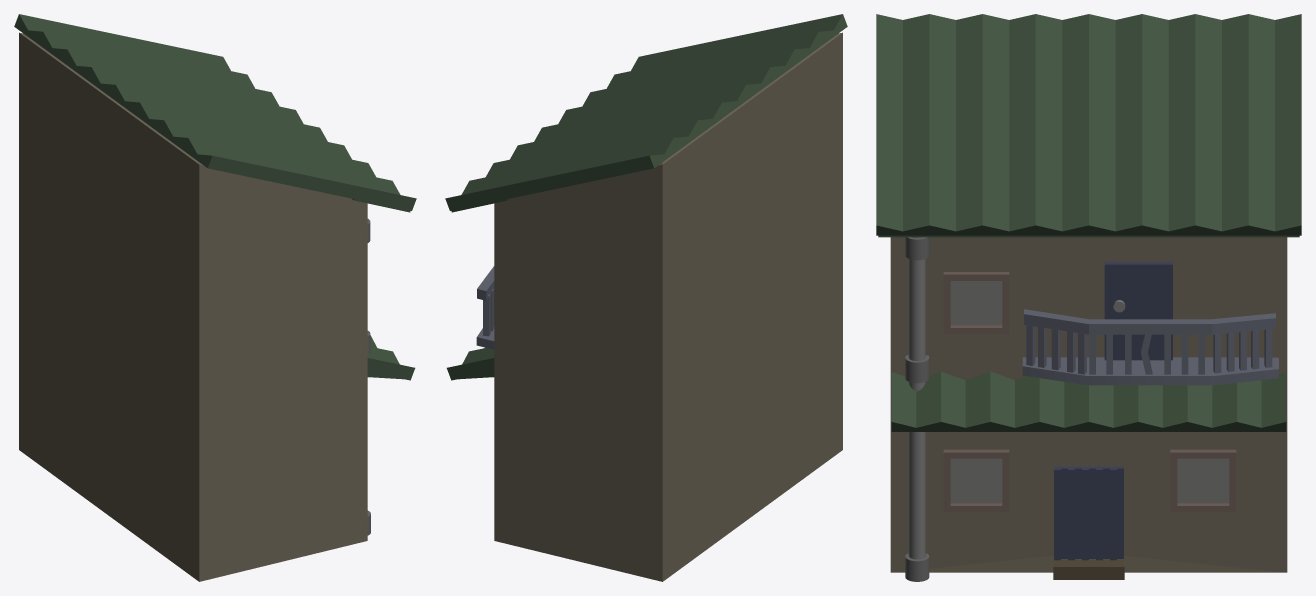
Rendered from PLAYER HOUSE GREEN ROOF (use as actual player house).fbx.
3 views of the same model, side by side, from view 1: azimuth 30°, elevation 25°; view 2: azimuth 150°, elevation 25°; view 3: azimuth 270°, elevation 25° (orthographic). The views are drawn at different scales.
Parts seen in each view (by area): view 1: pCube1, pCube7, pCube3; view 2: pCube1, pCube7, pCube33, pCube3; view 3: pCube7, pCube1, pCube3, pCube33, pCube29, pCube28, pCube5, pCube4, pCube8, pCylinder5, pCylinder1, pCube6 (+4 smaller).
Boxes of the visible parts, box(x1,y1,x2,y2) form: pCube1: box(19, 32, 367, 581); pCube7: box(14, 14, 416, 210); pCube3: box(367, 335, 415, 380); pCube1: box(494, 32, 842, 581); pCube7: box(445, 14, 847, 210); pCube33: box(476, 266, 494, 349); pCube3: box(446, 347, 494, 380); pCube7: box(876, 14, 1301, 235); pCube1: box(890, 237, 1287, 572); pCube3: box(891, 371, 1286, 431); pCube33: box(1022, 309, 1278, 385); pCube29: box(1054, 466, 1123, 560); pCube28: box(1104, 261, 1172, 360); pCube5: box(1170, 449, 1236, 511); pCube4: box(943, 449, 1009, 511); pCube8: box(943, 272, 1009, 334); pCylinder5: box(908, 432, 925, 559); pCylinder1: box(908, 237, 925, 391); pCube6: box(1053, 560, 1124, 579).
Size of the model in its own units: 8.26 by 15.7 by 12.78.
